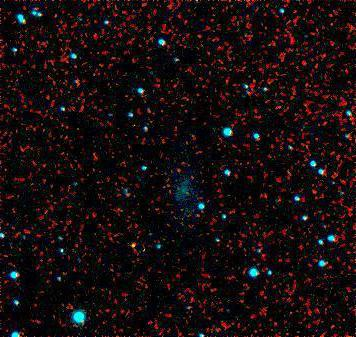star: (117, 228, 147, 258)
